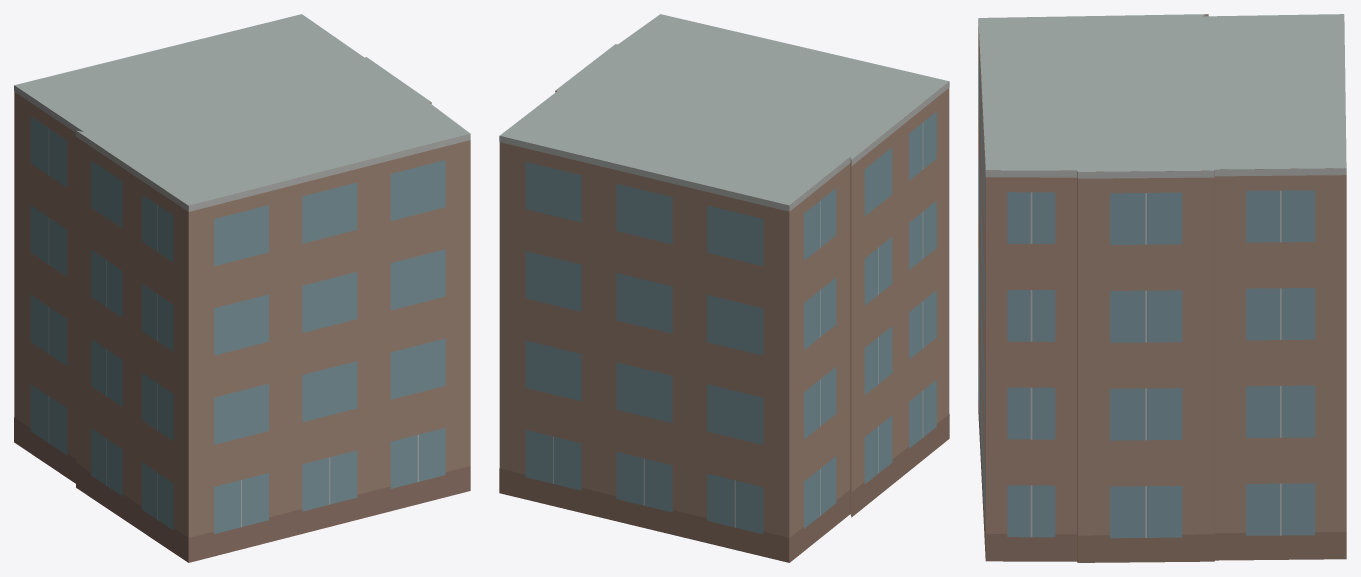
File: survey-upis-33030457.glb
3 views of the same model, side by side, from view 1: azimuth 30°, elevation 25°; view 2: azimuth 150°, elevation 25°; view 3: azimuth 270°, elevation 25° (orthographic). The views are drawn at different scales.
Visible parts, largest first — view 1: survey-upis-33030457.tmp; view 2: survey-upis-33030457.tmp; view 3: survey-upis-33030457.tmp.
Boxes of the visible parts, left/top/right/bottom form: survey-upis-33030457.tmp: left=14, top=14, right=470, bottom=562; survey-upis-33030457.tmp: left=499, top=14, right=949, bottom=562; survey-upis-33030457.tmp: left=978, top=14, right=1346, bottom=562.
Bounding box in the file's own units: 12.05 × 13.9 × 11.88.
